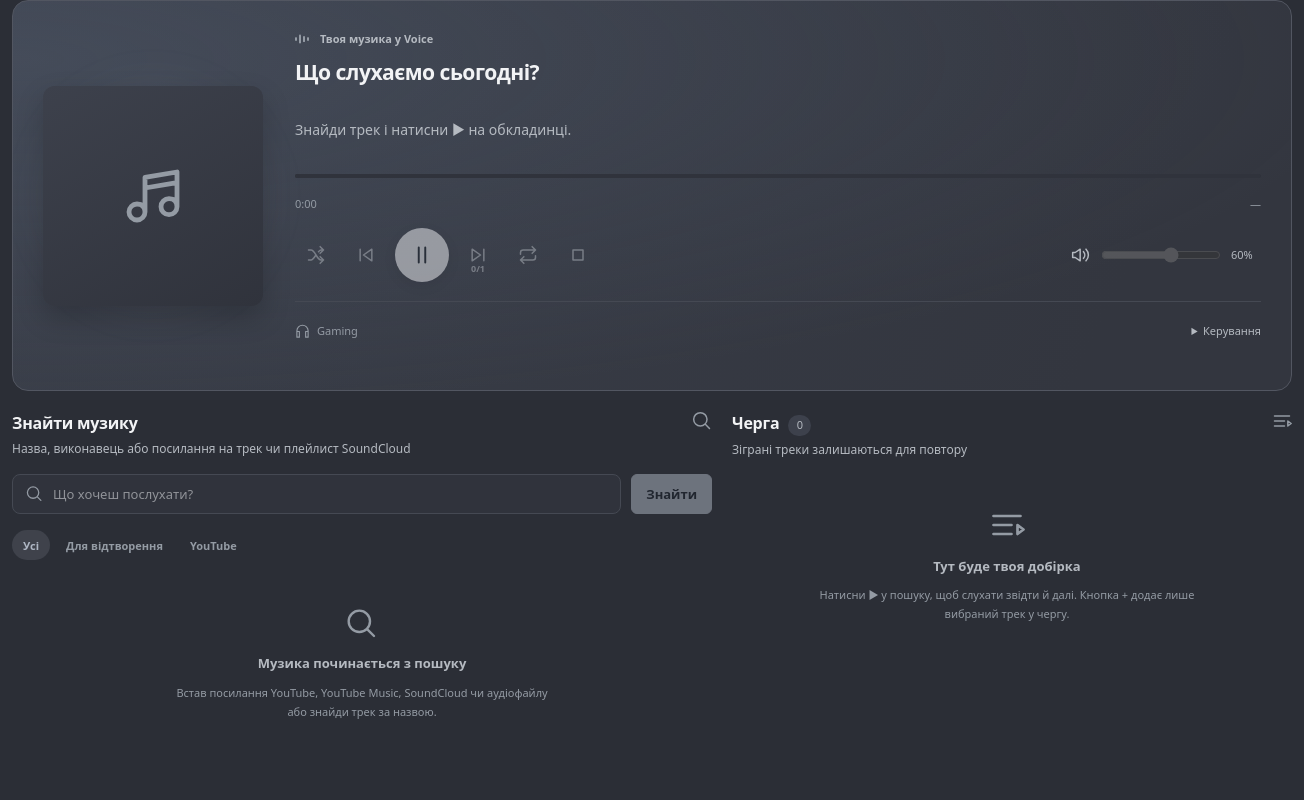
Media catalog search feedback › lets an edited query replace a running search and shows its result count and correction
Type "First" into the search field at [337, 494], box [53, 475, 620, 513]
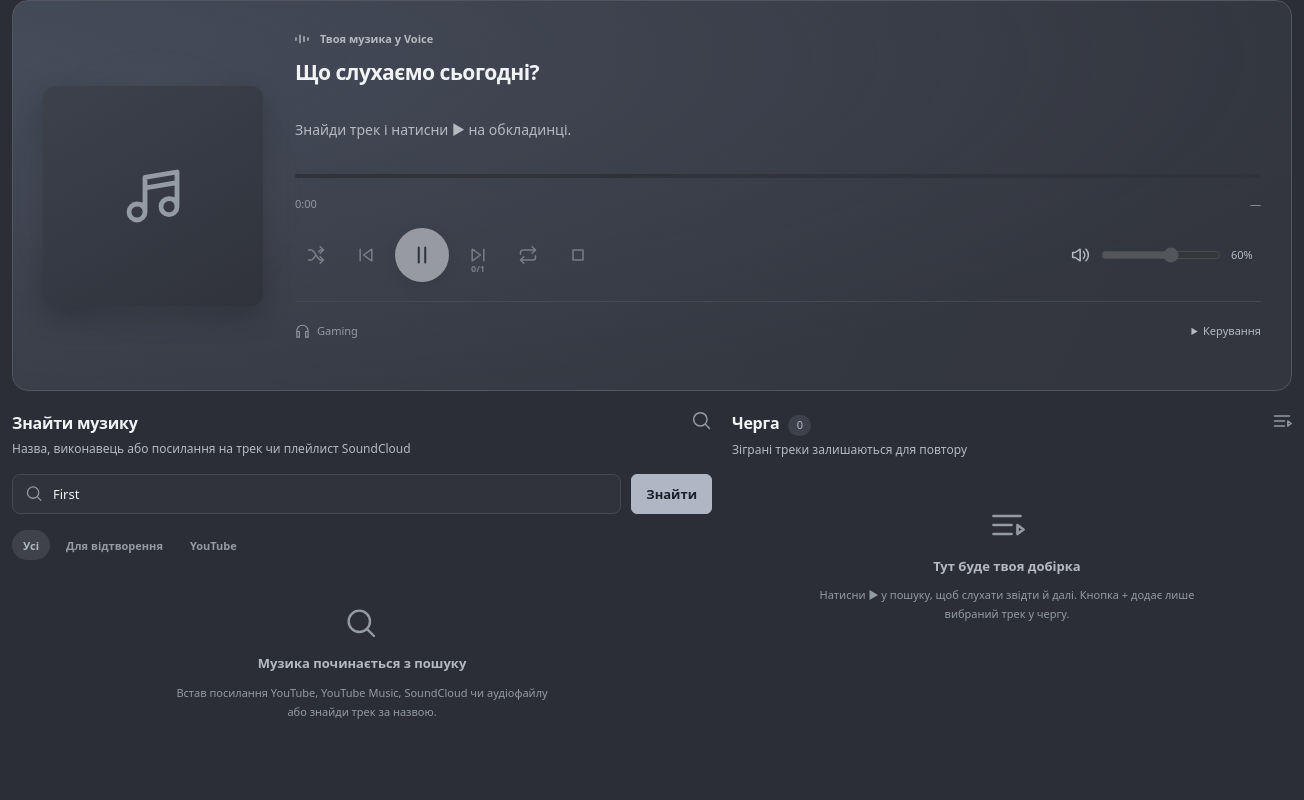
Click the button "Знайти" at [672, 494], box [631, 474, 712, 514]
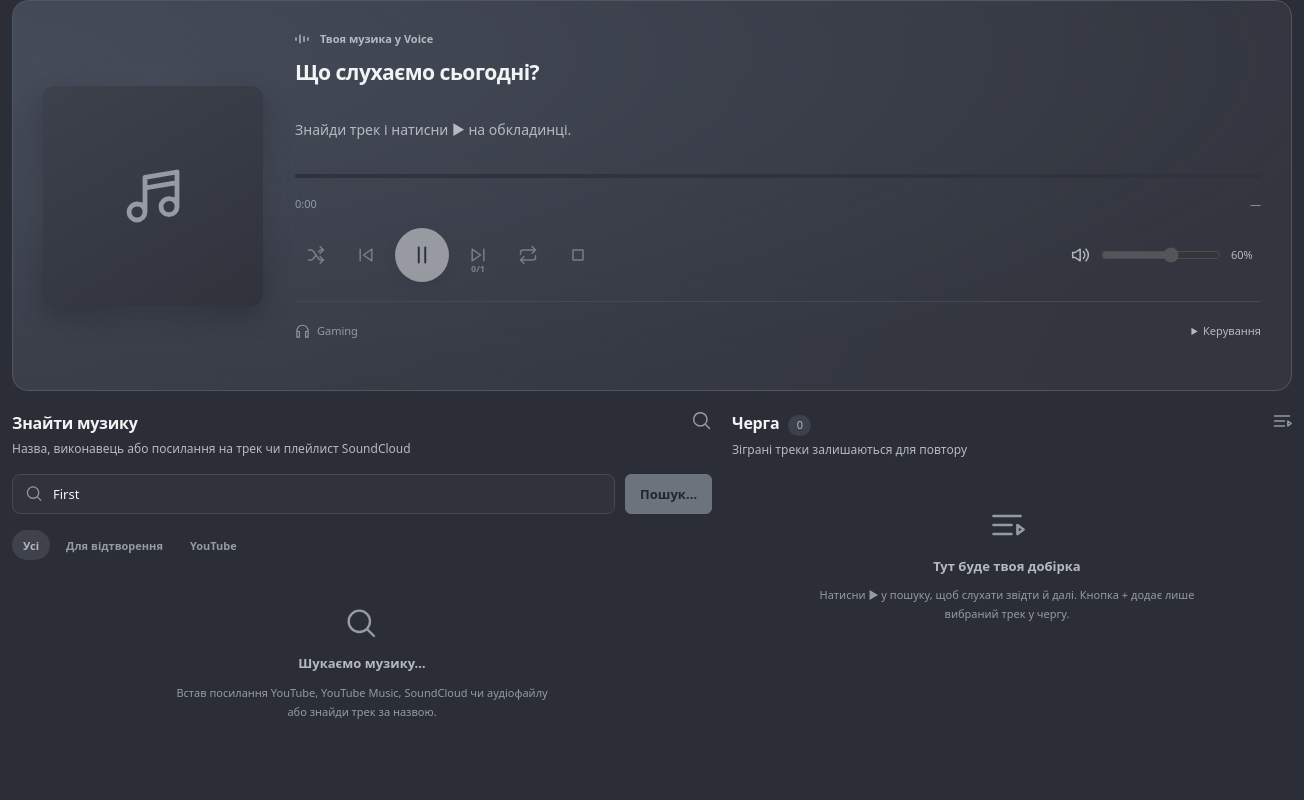
Result: the button "Пошук…" is disabled at [625, 474, 712, 514]
Replace the text in the search field with "Secnd" at [334, 494], box [53, 475, 614, 513]
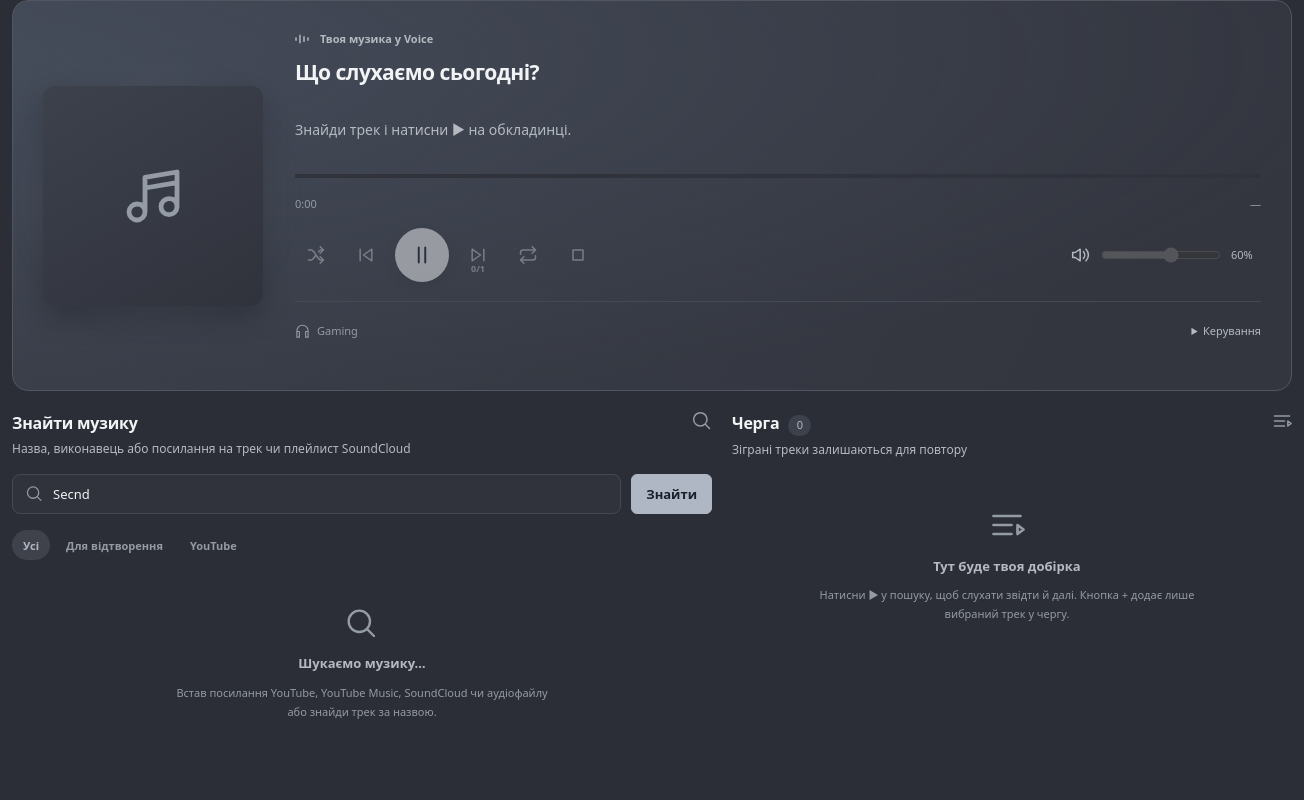
Result: the button "Знайти" is enabled
Click the button "Знайти" at [672, 494], box [631, 474, 712, 514]
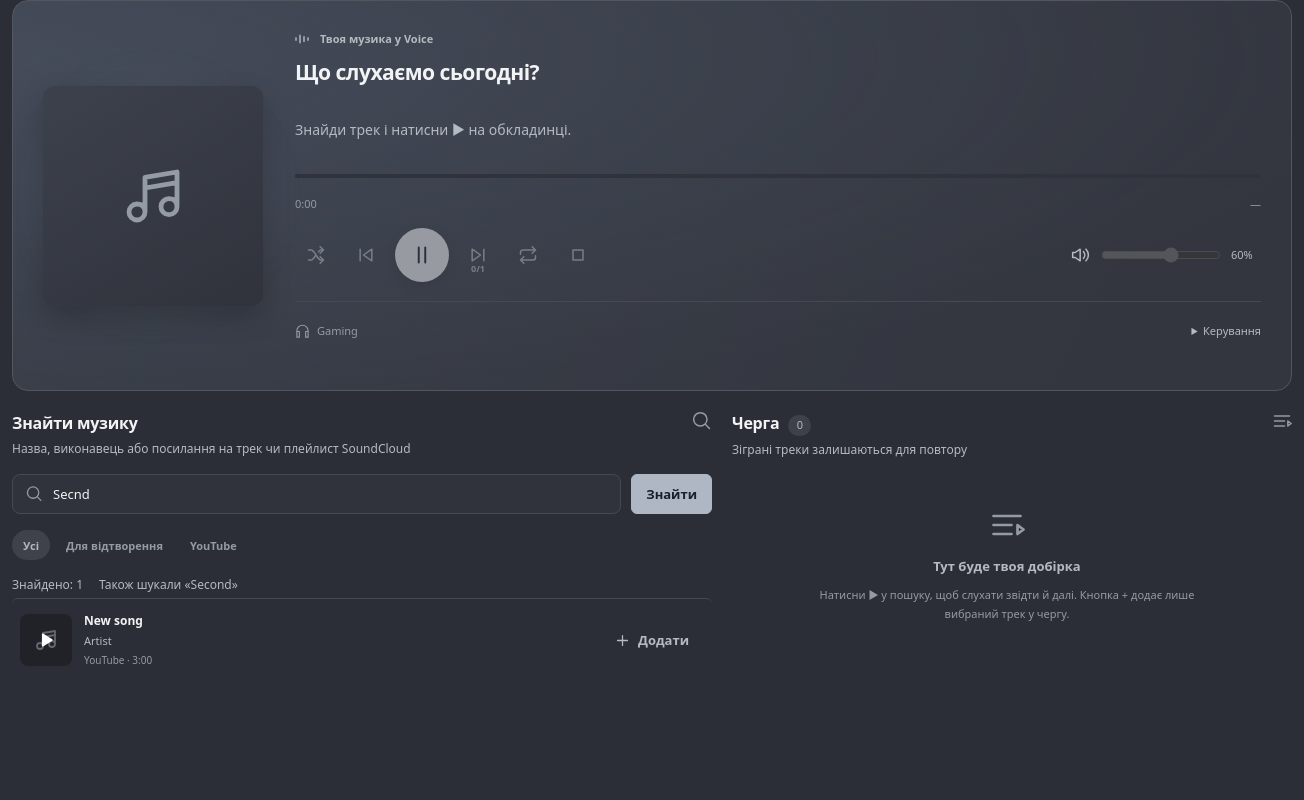
Result: the text "Знайдено: 1" is shown at [12, 576, 83, 594]
Result: the text "Також шукали «Second»" is shown at [99, 576, 238, 594]
Result: the text "New song" is shown at [84, 612, 143, 629]
